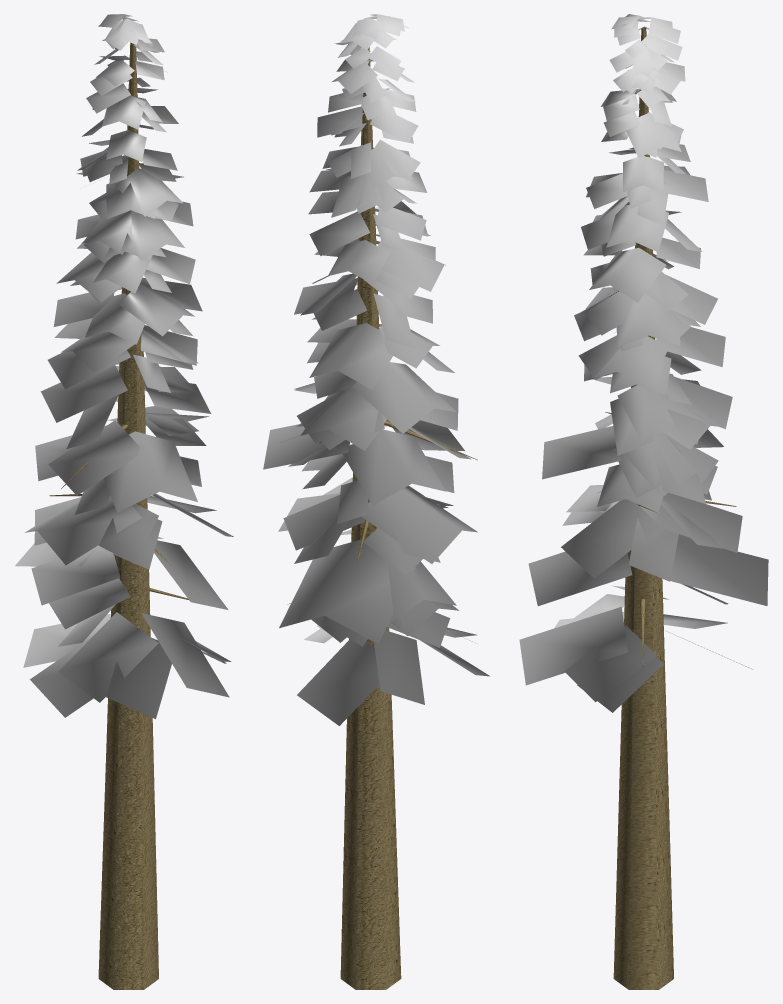
File: pine_02_LOD2.fbx
3 renders of one model, left to right at view 1: azimuth 30°, elevation 25°; view 2: azimuth 150°, elevation 25°; view 3: azimuth 270°, elevation 25°, orthographic.
Parts seen in each view (by area): view 1: pine_02_LOD2; view 2: pine_02_LOD2; view 3: pine_02_LOD2.
Part boxes in pixels (bbox=[...]): pine_02_LOD2: bbox=[15, 14, 233, 989]; pine_02_LOD2: bbox=[263, 14, 489, 989]; pine_02_LOD2: bbox=[519, 14, 768, 989].
Bounding box in the file's own units: 340 × 1624 × 382.
